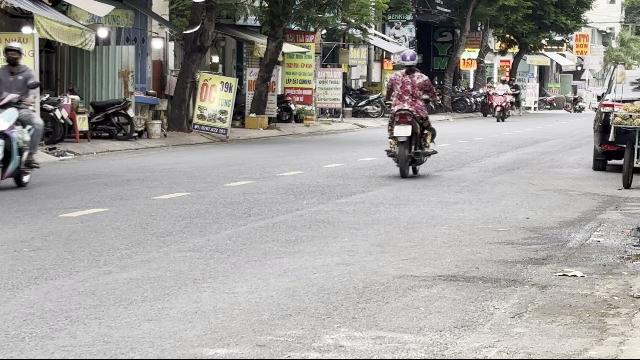helmet: (2, 42, 24, 64), (398, 48, 418, 70)
licenseplate: (393, 126, 411, 136)
motorcyclist: (382, 48, 438, 176), (0, 41, 44, 194)
